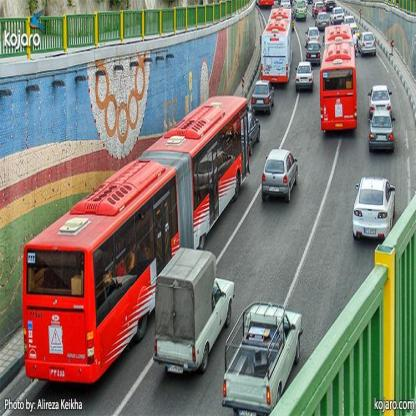Bus: (20, 78, 251, 390), (320, 16, 356, 130), (260, 3, 290, 86)
Car: (149, 238, 237, 382), (218, 301, 311, 414), (350, 172, 400, 254), (259, 148, 302, 211), (364, 113, 394, 149), (366, 82, 392, 119), (252, 81, 274, 117), (292, 61, 313, 91), (361, 29, 377, 61), (310, 0, 326, 20), (297, 5, 310, 29), (308, 46, 319, 68), (335, 9, 347, 27), (324, 0, 335, 17), (318, 12, 330, 26), (308, 34, 318, 46)
